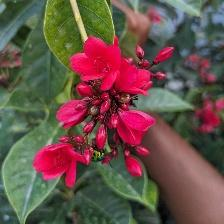jatropha: (70, 36, 121, 92), (32, 142, 90, 190)
